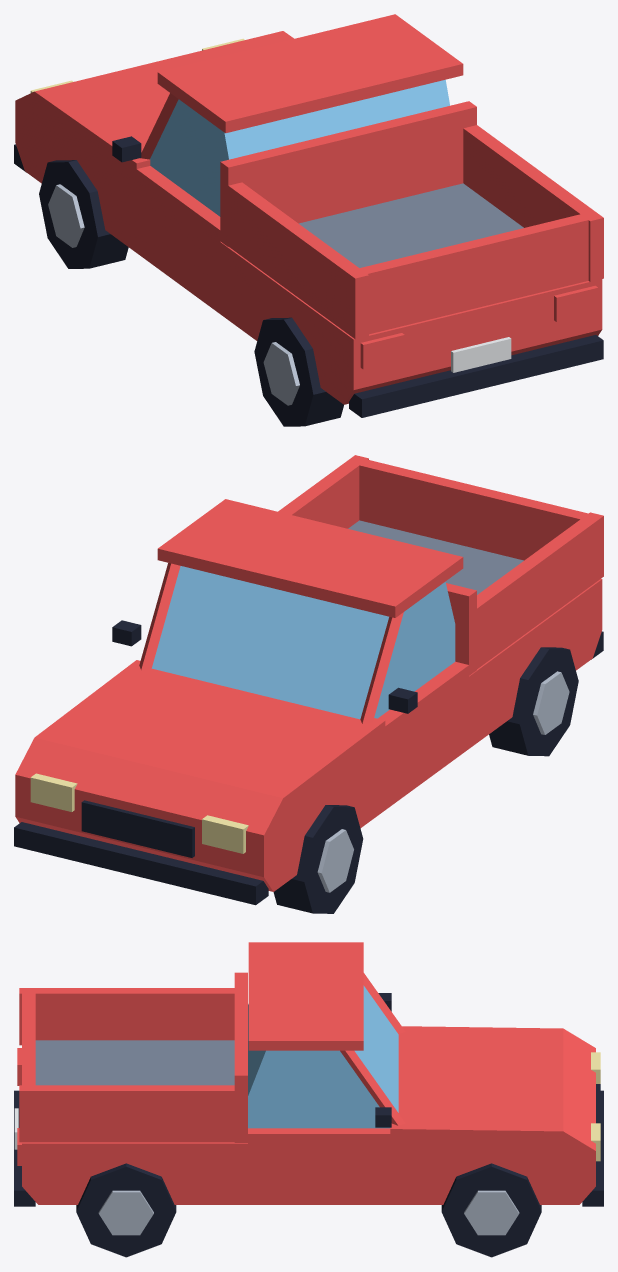
Rendered from car_pickup.glb.
The picture shows the model from 3 angles, top to bottom: view 1: azimuth 30°, elevation 25°; view 2: azimuth 150°, elevation 25°; view 3: azimuth 270°, elevation 25°; orthographic projection. The views are drawn at different scales.
Parts seen in each view (by area): view 1: PickupBody_01, Roof_01, BedFront_01, Tailgate_01, PickupCab_01, BedWall_01, BedFloor_01, BedWall_02, BumperB_01, Tyre_03, Tyre_01, Hub_03 (+6 smaller); view 2: PickupBody_01, PickupCab_01, Roof_01, Tailgate_01, BedWall_01, BumperF_01, Tyre_03, Tyre_01, Grille_01, BedWall_02, BedFloor_01, BedFront_01 (+8 smaller); view 3: PickupBody_01, BedWall_02, Roof_01, PickupCab_01, BedWall_01, BedFloor_01, Tyre_04, Tyre_02, BedFront_01, Hub_04, Hub_02, Tailgate_01 (+4 smaller).
Part boxes in pixels (<box>): PickupBody_01: <box>15,31,602,404</box>; Roof_01: <box>157,14,463,133</box>; BedFront_01: <box>220,101,476,246</box>; Tailgate_01: <box>346,211,600,336</box>; PickupCab_01: <box>150,79,449,216</box>; BedWall_01: <box>221,181,368,339</box>; BedFloor_01: <box>299,183,523,267</box>; BedWall_02: <box>463,125,603,281</box>; BumperB_01: <box>349,335,603,417</box>; Tyre_03: <box>254,317,343,426</box>; Tyre_01: <box>39,160,128,268</box>; Hub_03: <box>263,342,299,405</box>; PickupBody_01: <box>15,579,602,891</box>; PickupCab_01: <box>151,566,455,719</box>; Roof_01: <box>157,499,463,617</box>; Tailgate_01: <box>346,456,601,582</box>; BedWall_01: <box>470,512,603,674</box>; BumperF_01: <box>14,822,268,905</box>; Tyre_03: <box>489,647,578,756</box>; Tyre_01: <box>273,805,363,913</box>; Grille_01: <box>81,800,194,857</box>; BedWall_02: <box>278,455,368,528</box>; BedFloor_01: <box>348,520,523,594</box>; BedFront_01: <box>446,583,476,675</box>; PickupBody_01: <box>22,1026,595,1204</box>; BedWall_02: <box>19,1085,246,1142</box>; Roof_01: <box>248,942,363,1050</box>; PickupCab_01: <box>248,985,398,1128</box>; BedWall_01: <box>19,988,234,1045</box>; BedFloor_01: <box>35,1040,234,1085</box>; Tyre_04: <box>76,1163,176,1257</box>; Tyre_02: <box>441,1163,541,1257</box>; BedFront_01: <box>234,972,247,1142</box>; Hub_04: <box>98,1190,153,1235</box>; Hub_02: <box>464,1190,519,1235</box>; Tailgate_01: <box>22,988,35,1142</box>.
Bounding box in the file's own units: 2.14 × 1.72 × 4.36.
